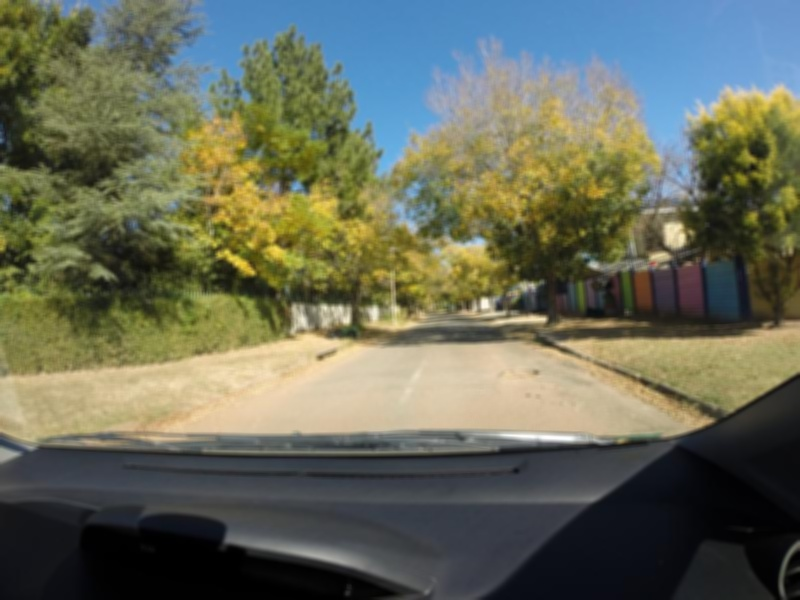pothole: (487, 359, 544, 381)
